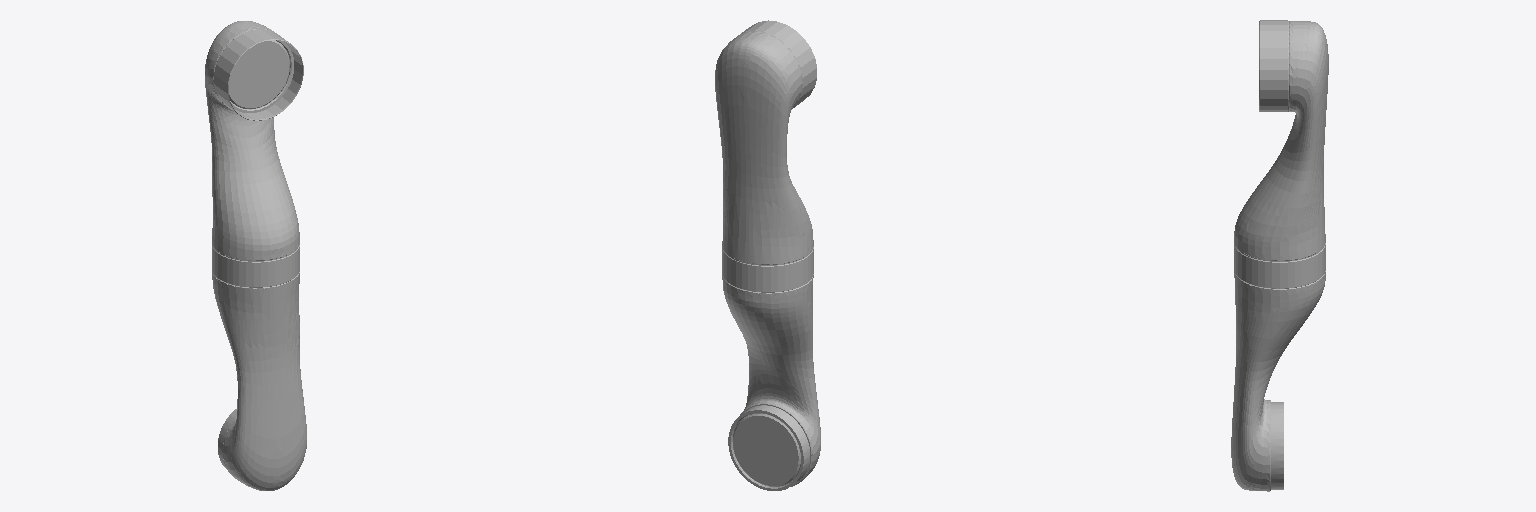
URDF robot description (GEN3_URDF_V12):
<?xml version="1.0"?>
<robot name="GEN3_URDF_V12" version="1.0">
  <link name="base_link">
    <inertial>
      <origin xyz="-0.000648 -0.000166 0.084487" rpy="0 0 0" />
      <mass value="1.697" />
      <inertia ixx="0.004622" ixy="9E-06" ixz="6E-05" iyy="0.004495" iyz="9E-06" izz="0.002079" />
    </inertial>
    <visual>
      <origin xyz="0 0 0" rpy="0 0 0" />
      <geometry>
        <mesh filename="../meshes/base_link.obj" />
      </geometry>
      <material name="">
        <color rgba="0.75294 0.75294 0.75294 1" />
      </material>
    </visual>
    <collision>
      <origin xyz="0 0 0" rpy="0 0 0" />
      <geometry>
        <mesh filename="../meshes/base_link.obj" />
      </geometry>
    </collision>
  </link>
  <link name="shoulder_link">
    <inertial>
      <origin xyz="-2.3E-05 -0.010364 -0.07336" rpy="0 0 0" />
      <mass value="1.3773" />
      <inertia ixx="0.00457" ixy="1E-06" ixz="2E-06" iyy="0.004831" iyz="0.000448" izz="0.001409" />
    </inertial>
    <visual>
      <origin xyz="0 0 0" rpy="0 0 0" />
      <geometry>
        <mesh filename="../meshes/shoulder_link.obj" />
      </geometry>
      <material name="">
        <color rgba="0.75294 0.75294 0.75294 1" />
      </material>
    </visual>
    <collision>
      <origin xyz="0 0 0" rpy="0 0 0" />
      <geometry>
        <mesh filename="../meshes/shoulder_link.obj" />
      </geometry>
    </collision>
  </link>
  <joint name="Actuator1" type="continuous">
    <origin xyz="0 0 0.15643" rpy="3.1416 2.7629E-18 -4.9305E-36" />
    <parent link="base_link" />
    <child link="shoulder_link" />
    <axis xyz="0 0 1" />
    <limit effort="39" velocity="0.8727" />
  </joint>
  <link name="half_arm_1_link">
    <inertial>
      <origin xyz="-4.4E-05 -0.09958 -0.013278" rpy="0 0 0" />
      <mass value="1.1636" />
      <inertia ixx="0.011088" ixy="5E-06" ixz="0" iyy="0.001072" iyz="-0.000691" izz="0.011255" />
    </inertial>
    <visual>
      <origin xyz="0 0 0" rpy="0 0 0" />
      <geometry>
        <mesh filename="../meshes/half_arm_1_link.obj" />
      </geometry>
      <material name="">
        <color rgba="0.75294 0.75294 0.75294 1" />
      </material>
    </visual>
    <collision>
      <origin xyz="0 0 0" rpy="0 0 0" />
      <geometry>
        <mesh filename="../meshes/half_arm_1_link.obj" />
      </geometry>
    </collision>
  </link>
  <joint name="Actuator2" type="revolute">
    <origin xyz="0 0.005375 -0.12838" rpy="1.5708 2.1343E-17 -1.1102E-16" />
    <parent link="shoulder_link" />
    <child link="half_arm_1_link" />
    <axis xyz="0 0 1" />
    <limit lower="-2.41" upper="2.41" effort="39" velocity="0.8727" />
  </joint>
  <link name="half_arm_2_link">
    <inertial>
      <origin xyz="-4.4E-05 -0.006641 -0.117892" rpy="0 0 0" />
      <mass value="1.1636" />
      <inertia ixx="0.010932" ixy="0" ixz="-7E-06" iyy="0.011127" iyz="0.000606" izz="0.001043" />
    </inertial>
    <visual>
      <origin xyz="0 0 0" rpy="0 0 0" />
      <geometry>
        <mesh filename="../meshes/half_arm_2_link.obj" />
      </geometry>
      <material name="">
        <color rgba="0.75294 0.75294 0.75294 1" />
      </material>
    </visual>
    <collision>
      <origin xyz="0 0 0" rpy="0 0 0" />
      <geometry>
        <mesh filename="../meshes/half_arm_2_link.obj" />
      </geometry>
    </collision>
  </link>
  <joint name="Actuator3" type="continuous">
    <origin xyz="0 -0.21038 -0.006375" rpy="-1.5708 1.2326E-32 -2.9122E-16" />
    <parent link="half_arm_1_link" />
    <child link="half_arm_2_link" />
    <axis xyz="0 0 1" />
    <limit effort="39" velocity="0.8727" />
  </joint>
  <link name="forearm_link">
    <inertial>
      <origin xyz="-1.8E-05 -0.075478 -0.015006" rpy="0 0 0" />
      <mass value="0.9302" />
      <inertia ixx="0.008147" ixy="-1E-06" ixz="0" iyy="0.000631" iyz="-0.0005" izz="0.008316" />
    </inertial>
    <visual>
      <origin xyz="0 0 0" rpy="0 0 0" />
      <geometry>
        <mesh filename="../meshes/forearm_link.obj" />
      </geometry>
      <material name="">
        <color rgba="0.75294 0.75294 0.75294 1" />
      </material>
    </visual>
    <collision>
      <origin xyz="0 0 0" rpy="0 0 0" />
      <geometry>
        <mesh filename="../meshes/forearm_link.obj" />
      </geometry>
    </collision>
  </link>
  <joint name="Actuator4" type="revolute">
    <origin xyz="0 0.006375 -0.21038" rpy="1.5708 -6.6954E-17 -1.6653E-16" />
    <parent link="half_arm_2_link" />
    <child link="forearm_link" />
    <axis xyz="0 0 1" />
    <limit lower="-2.66" upper="2.66" effort="39" velocity="0.8727" />
  </joint>
  <link name="spherical_wrist_1_link">
    <inertial>
      <origin xyz="1E-06 -0.009432 -0.063883" rpy="0 0 0" />
      <mass value="0.6781" />
      <inertia ixx="0.001596" ixy="0" ixz="0" iyy="0.001607" iyz="0.000256" izz="0.000399" />
    </inertial>
    <visual>
      <origin xyz="0 0 0" rpy="0 0 0" />
      <geometry>
        <mesh filename="../meshes/spherical_wrist_1_link.obj" />
      </geometry>
      <material name="">
        <color rgba="0.75294 0.75294 0.75294 1" />
      </material>
    </visual>
    <collision>
      <origin xyz="0 0 0" rpy="0 0 0" />
      <geometry>
        <mesh filename="../meshes/spherical_wrist_1_link.obj" />
      </geometry>
    </collision>
  </link>
  <joint name="Actuator5" type="continuous">
    <origin xyz="0 -0.20843 -0.006375" rpy="-1.5708 2.2204E-16 -6.373E-17" />
    <parent link="forearm_link" />
    <child link="spherical_wrist_1_link" />
    <axis xyz="0 0 1" />
    <limit effort="9" velocity="0.8727" />
  </joint>
  <link name="spherical_wrist_2_link">
    <inertial>
      <origin xyz="1E-06 -0.045483 -0.00965" rpy="0 0 0" />
      <mass value="0.6781" />
      <inertia ixx="0.001641" ixy="0" ixz="0" iyy="0.00041" iyz="-0.000278" izz="0.001641" />
    </inertial>
    <visual>
      <origin xyz="0 0 0" rpy="0 0 0" />
      <geometry>
        <mesh filename="../meshes/spherical_wrist_2_link.obj" />
      </geometry>
      <material name="">
        <color rgba="0.75294 0.75294 0.75294 1" />
      </material>
    </visual>
    <collision>
      <origin xyz="0 0 0" rpy="0 0 0" />
      <geometry>
        <mesh filename="../meshes/spherical_wrist_2_link.obj" />
      </geometry>
    </collision>
  </link>
  <joint name="Actuator6" type="revolute">
    <origin xyz="0 0.00017505 -0.10593" rpy="1.5708 9.2076E-28 -8.2157E-15" />
    <parent link="spherical_wrist_1_link" />
    <child link="spherical_wrist_2_link" />
    <axis xyz="0 0 1" />
    <limit lower="-2.23" upper="2.23" effort="9" velocity="0.8727" />
  </joint>
  <link name="bracelet_no_vision_link">
    <inertial>
      <origin xyz="-0.000281 -0.011402 -0.029798" rpy="0 0 0" />
      <mass value="0.5006" />
      <inertia ixx="0.000587" ixy="3E-06" ixz="3E-06" iyy="0.000369" iyz="0.000118" izz="0.000609" />
    </inertial>
    <visual>
      <origin xyz="0 0 0" rpy="0 0 0" />
      <geometry>
        <mesh filename="../meshes/bracelet_no_vision_link.obj" />
      </geometry>
      <material name="">
        <color rgba="0.75294 0.75294 0.75294 1" />
      </material>
    </visual>
    <collision>
      <origin xyz="0 0 0" rpy="0 0 0" />
      <geometry>
        <mesh filename="../meshes/bracelet_no_vision_link.obj" />
      </geometry>
    </collision>
  </link>
  <joint name="Actuator7" type="continuous">
    <origin xyz="0 -0.10593 -0.00017505" rpy="-1.5708 -5.5511E-17 9.6396E-17" />
    <parent link="spherical_wrist_2_link" />
    <child link="bracelet_no_vision_link" />
    <axis xyz="0 0 1" />
    <limit effort="9" velocity="0.8727" />
  </joint>
  <link name="EndEffector_Link" />
  <joint name="EndEffector" type="fixed">
    <origin xyz="0 0 -0.0615250000000001" rpy="3.14159265358979 1.09937075168372E-32 0" />
    <parent link="bracelet_no_vision_link" />
    <child link="EndEffector_Link" />
    <axis xyz="0 0 0" />
  </joint>
</robot>

--- Facts derived from the render (not from the file) ---
Views: 3 orthographic renders of the robot side by side, from view 1: azimuth 30°, elevation 25°; view 2: azimuth 150°, elevation 25°; view 3: azimuth 270°, elevation 25°.
Model GEN3_URDF_V12 with 9 links and 8 joints (3 revolute, 4 continuous, 1 fixed), rooted at base_link, posed all joints at 0.
Links seen in each view (by area): view 1: half_arm_2_link, half_arm_1_link; view 2: half_arm_2_link, half_arm_1_link; view 3: half_arm_2_link, half_arm_1_link.
Link boxes in pixels (left/top/right/bottom): half_arm_2_link: left=205, top=21, right=303, bottom=261; half_arm_1_link: left=212, top=245, right=306, bottom=490; half_arm_2_link: left=715, top=20, right=816, bottom=265; half_arm_1_link: left=722, top=247, right=820, bottom=490; half_arm_2_link: left=1234, top=20, right=1328, bottom=261; half_arm_1_link: left=1231, top=243, right=1325, bottom=491.
Size in the robot's own frame: 0.092 by 0.098 by 0.5128 metres.
Meshes: 8 distinct files referenced, 2 mesh visuals loaded (2 OBJ); not drawn: 6 (reference not matched to a file when rendering).